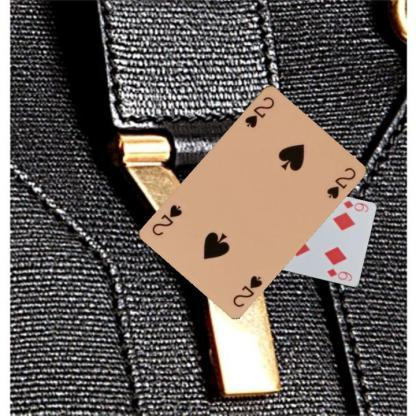2s: (230, 272, 264, 308), (242, 93, 276, 128)
6d: (340, 198, 370, 214)
